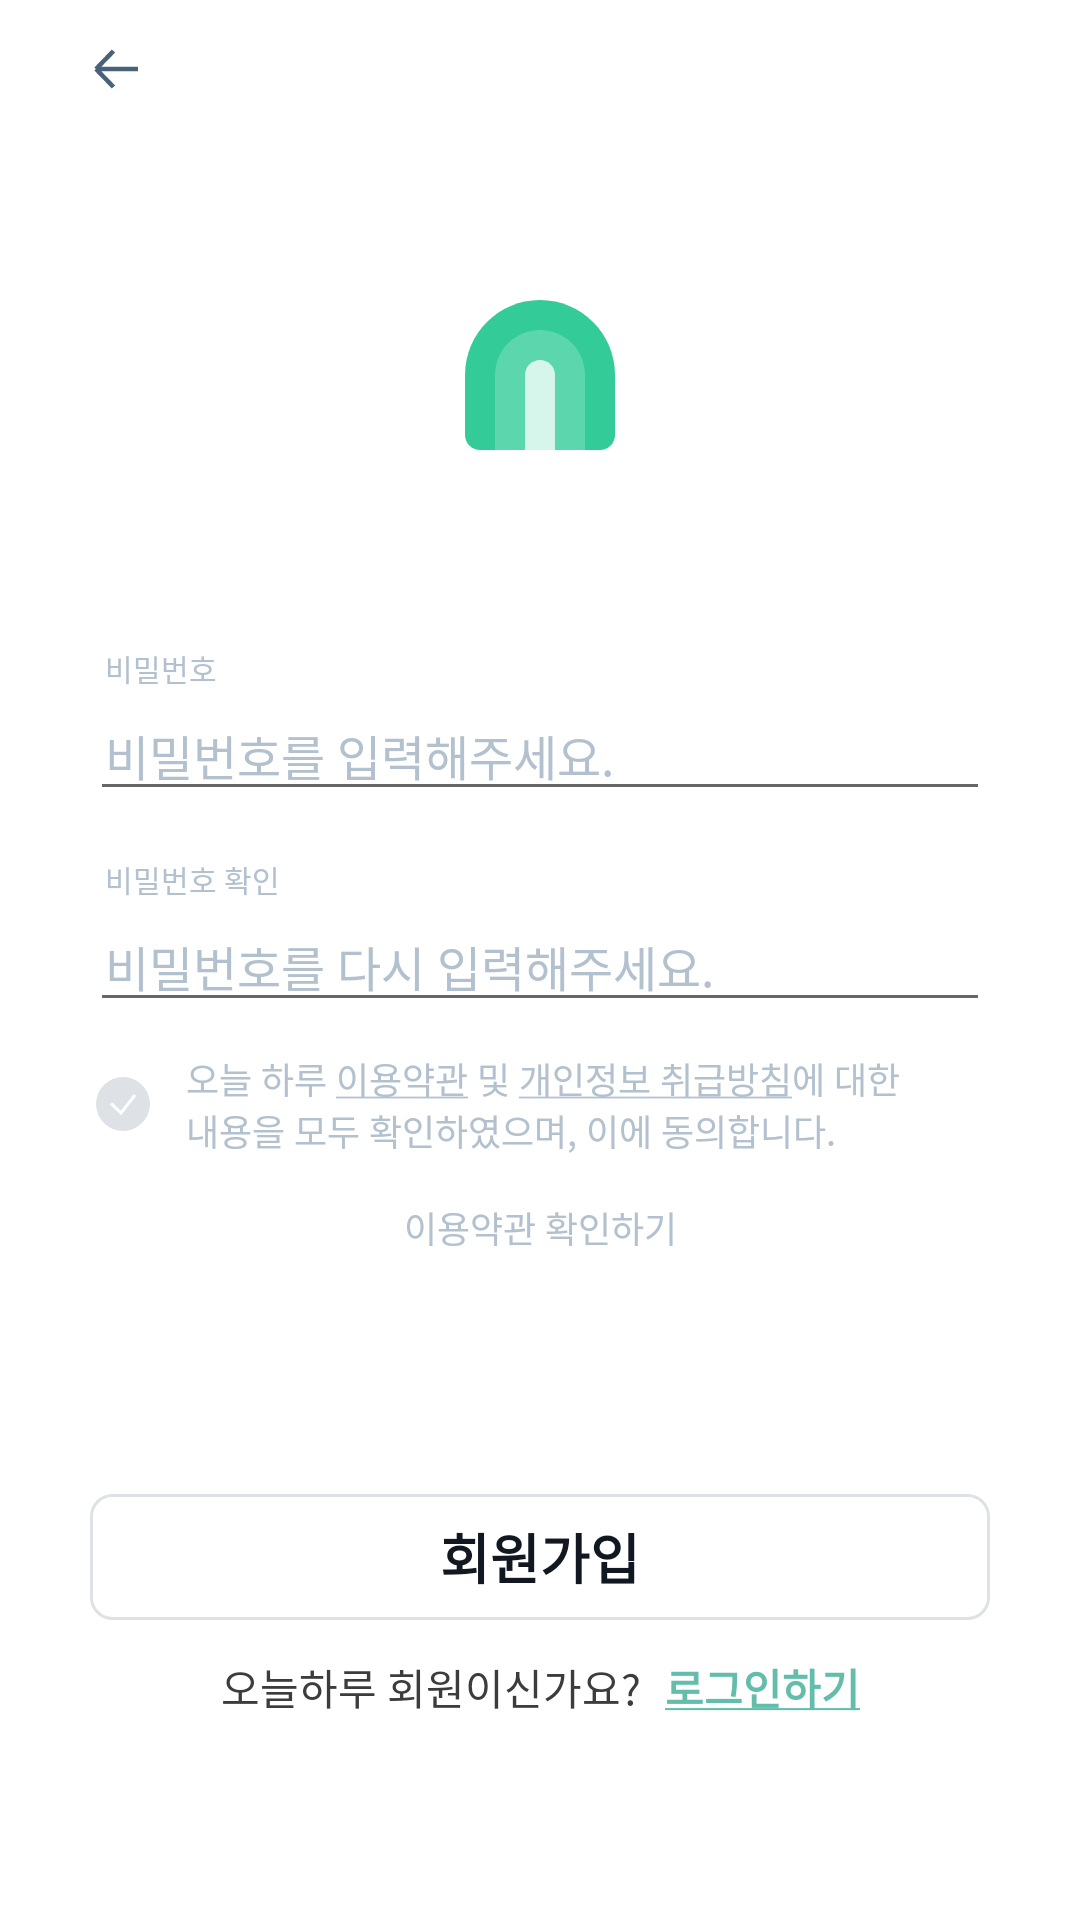

Screen size 1080px x 1920px. Icon name, then its box in pixels as (x1, y1, x2, y2):
back: (94, 49, 138, 89)
checkbox: (96, 1077, 150, 1131)
